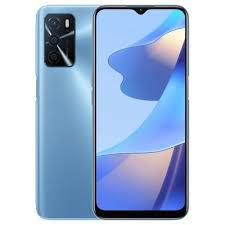Smartphone: (98, 6, 186, 216), (36, 5, 99, 214)
